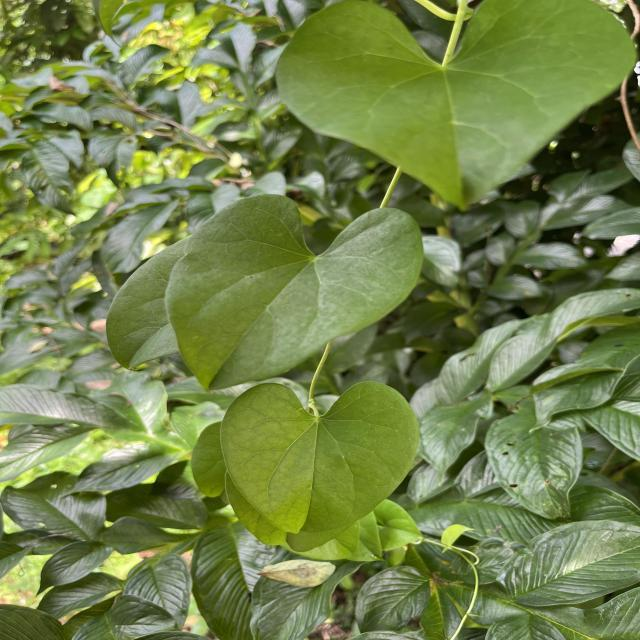Tinospora cordifolia: (273, 0, 640, 210), (162, 190, 428, 394), (216, 379, 424, 537)
